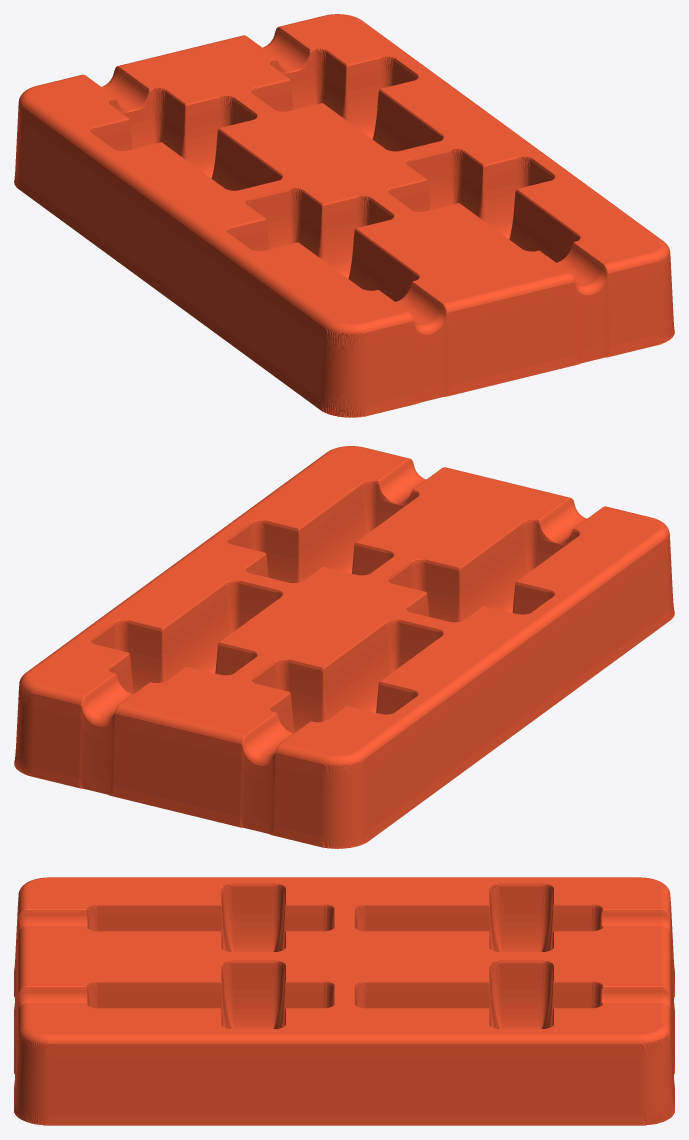
The model's file is mold.glb.
3 renders of one model, top to bottom at view 1: azimuth 30°, elevation 25°; view 2: azimuth 150°, elevation 25°; view 3: azimuth 270°, elevation 25°, orthographic. The views are drawn at different scales.
Parts seen in each view (by area): view 1: geometry_0; view 2: geometry_0; view 3: geometry_0.
Part boxes in pixels (bbox=[...]): geometry_0: bbox=[14, 14, 674, 417]; geometry_0: bbox=[14, 446, 674, 848]; geometry_0: bbox=[14, 877, 674, 1125].
Size of the model in its own units: 0.1024 by 0.0245 by 0.171.
